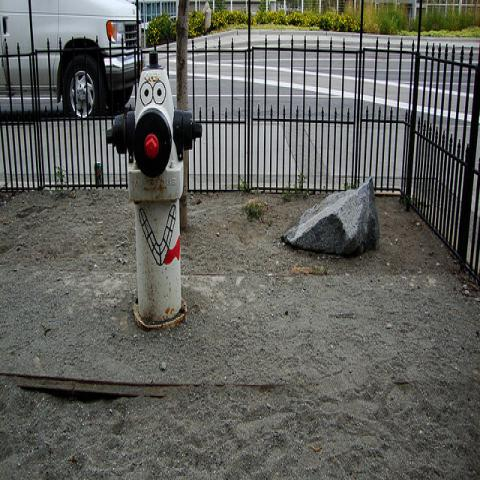truck: (0, 0, 143, 119)
